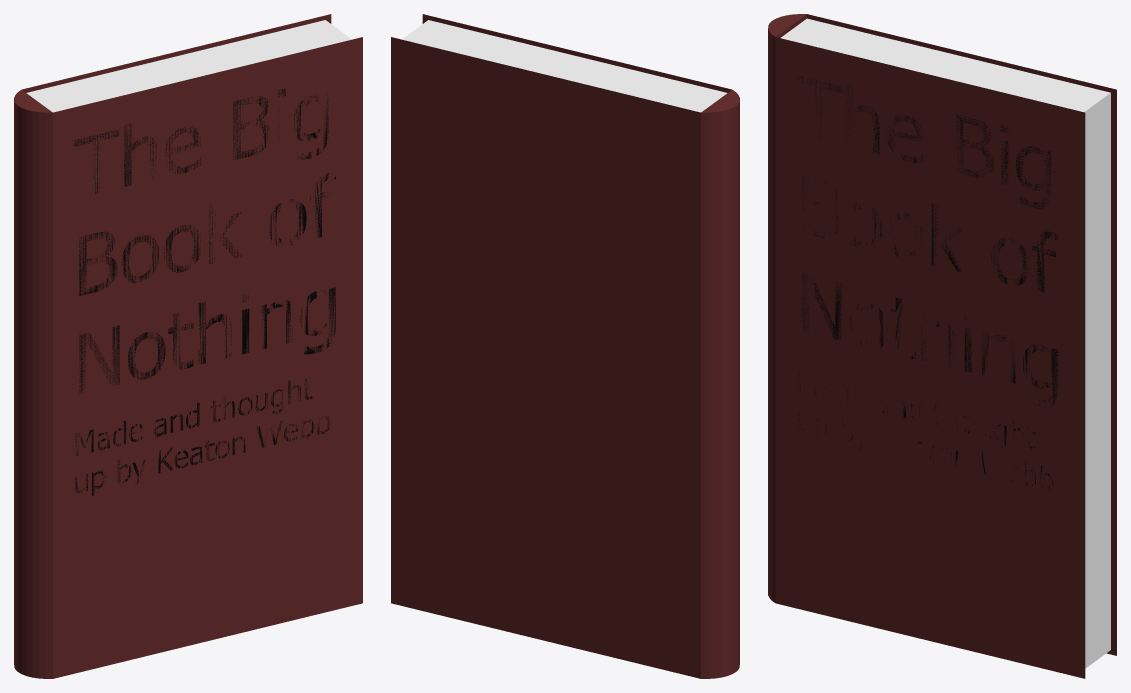
The picture shows the model from 3 angles, left to right: view 1: azimuth 30°, elevation 25°; view 2: azimuth 150°, elevation 25°; view 3: azimuth 330°, elevation 25°; orthographic projection.
Parts seen in each view (by area): view 1: big book of nothing; view 2: big book of nothing; view 3: big book of nothing.
Boxes of the visible parts, <box> form: big book of nothing: <box>14,14,362,678</box>; big book of nothing: <box>391,14,739,678</box>; big book of nothing: <box>768,14,1116,678</box>.
Size of the model in its own units: 33.25 by 54.69 by 5.5.
